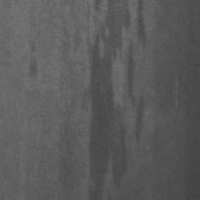inclusion: (84, 1, 147, 190), (24, 42, 43, 82)
